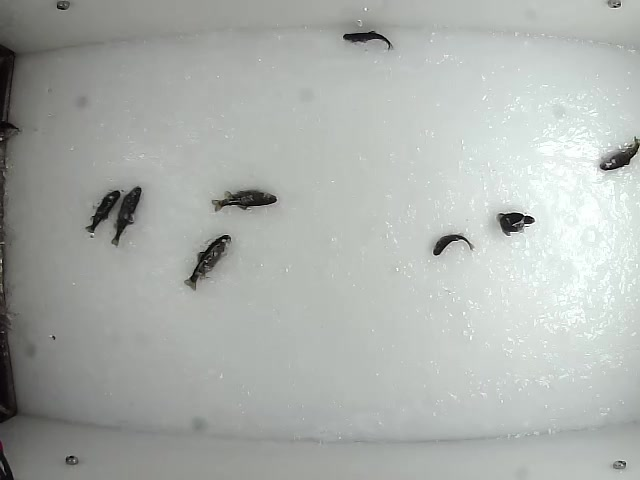fish: (182, 231, 233, 291), (110, 185, 142, 247), (85, 186, 121, 238), (209, 188, 282, 213), (597, 132, 640, 171), (342, 29, 395, 54), (430, 231, 474, 258), (492, 211, 537, 235)
